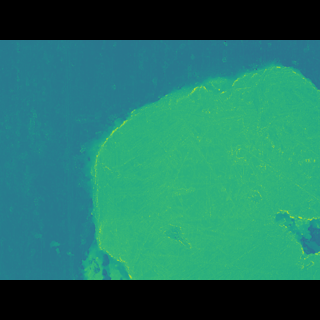Loch: (75, 82, 320, 249)
